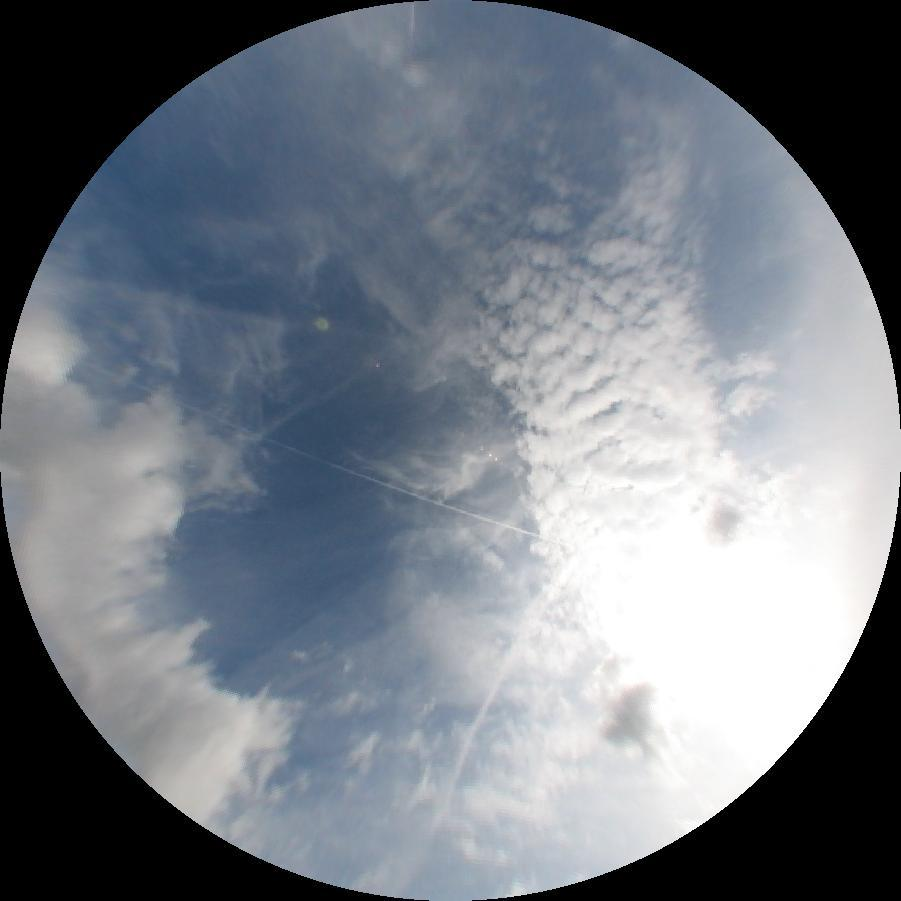contrail young: (77, 361, 574, 557)
sun: (557, 457, 890, 784)
